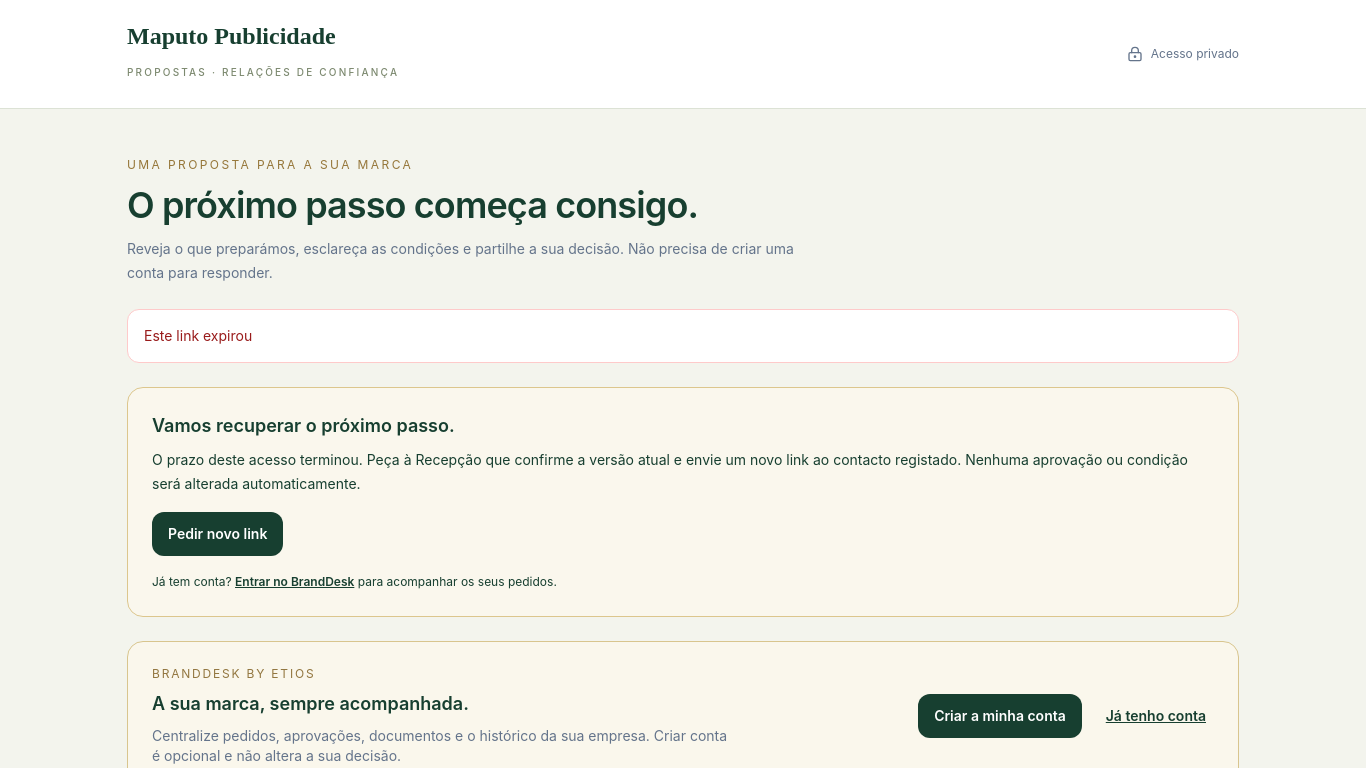
Test: Client proposal review › offers renewal on a verified expired token without displaying proposal details
Click the button "Pedir novo link": (218,534) [152,512,283,556]
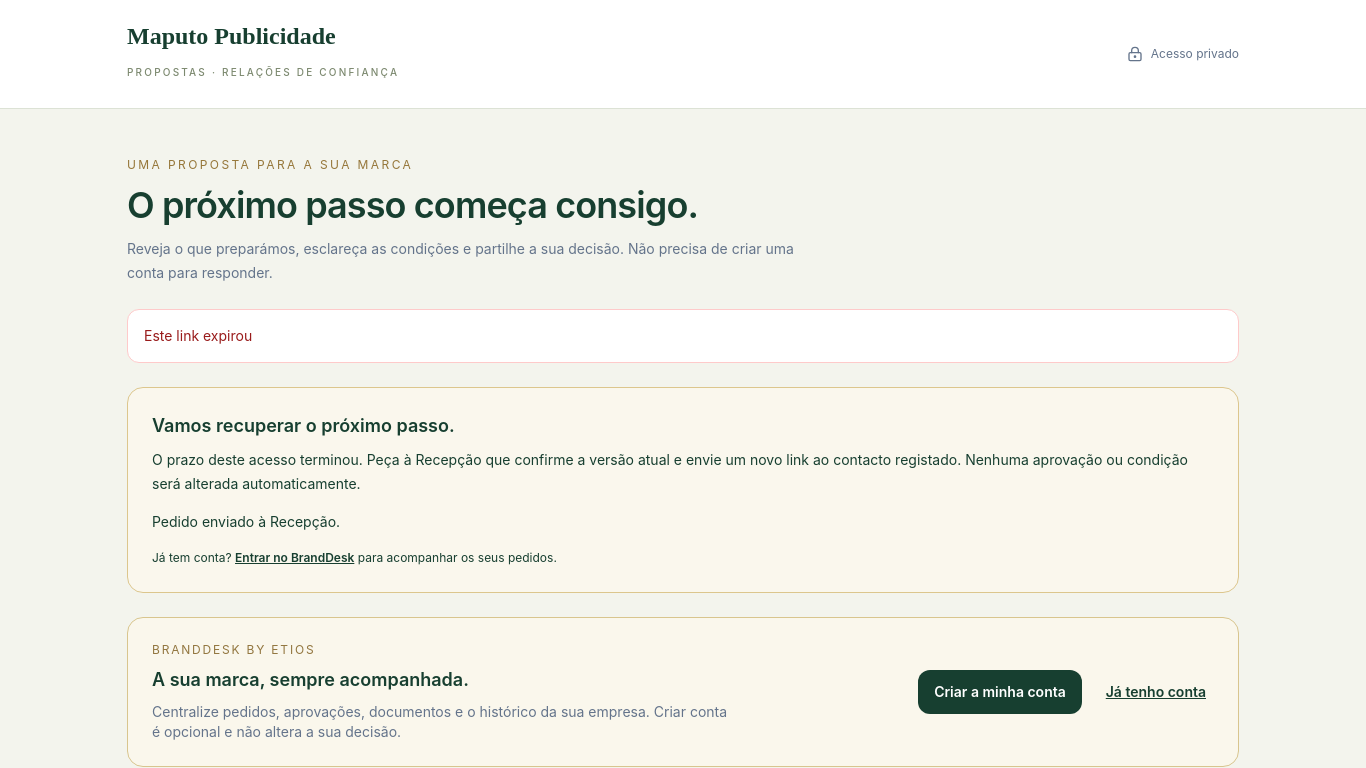
Result: the text "Pedido enviado à Recepção." is shown at [152,513,340,530]
